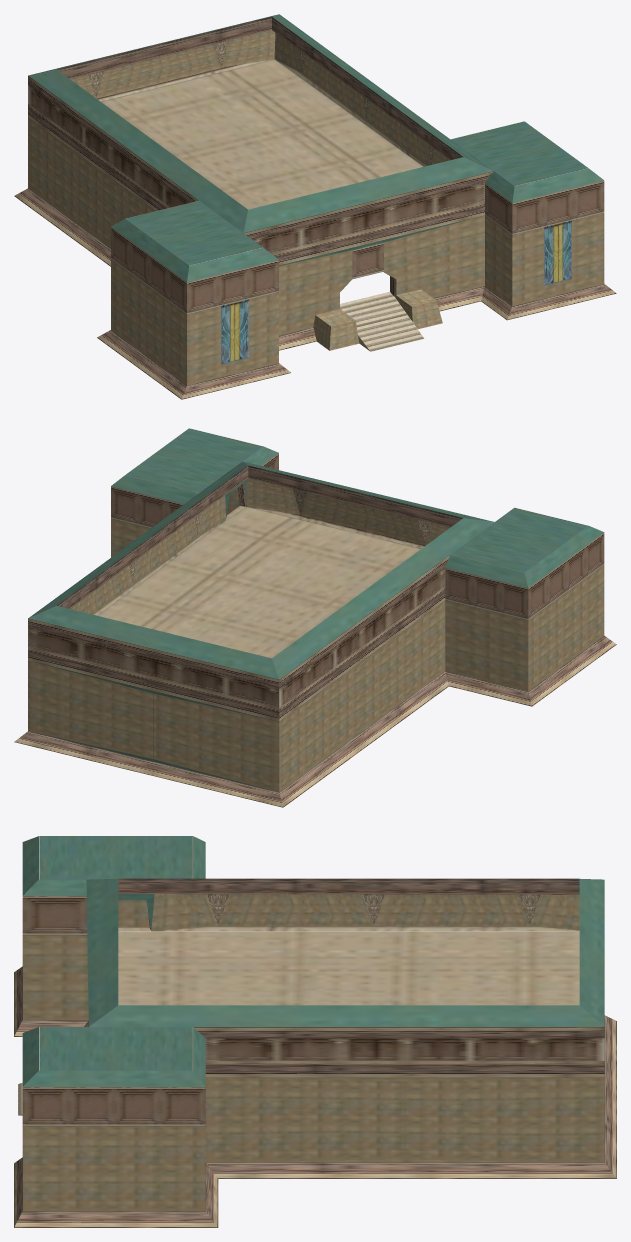
The model's file is thm_nboo_assoc_hall_civ_s01_r0_exterior_mesh_exterior_l2.fbx.
3 renders of one model, top to bottom at view 1: azimuth 30°, elevation 25°; view 2: azimuth 150°, elevation 25°; view 3: azimuth 270°, elevation 25°, orthographic. The views are drawn at different scales.
Visible parts, largest first — view 1: mesh_node; view 2: mesh_node; view 3: mesh_node.
Boxes of the visible parts, <box> form: mesh_node: <box>14,14,616,399</box>; mesh_node: <box>14,428,616,807</box>; mesh_node: <box>14,836,616,1227</box>.
Bounding box in the file's own units: 48.51 × 14 × 48.38.
